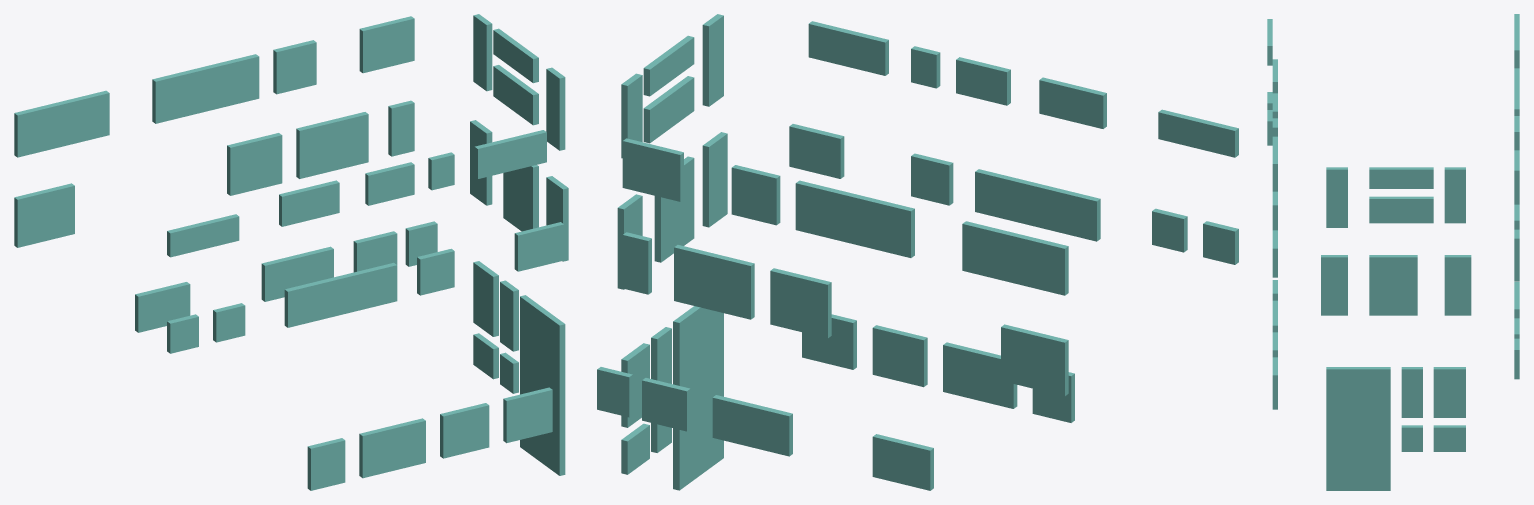
The model's file is Street4-7.obj.
The picture shows the model from 3 angles, left to right: view 1: azimuth 30°, elevation 25°; view 2: azimuth 150°, elevation 25°; view 3: azimuth 270°, elevation 25°; orthographic projection. The views are drawn at different scales.
Size of the model in its own units: 7.5 by 6.6 by 4.7.
Materials: 1 (1 with a texture image).
